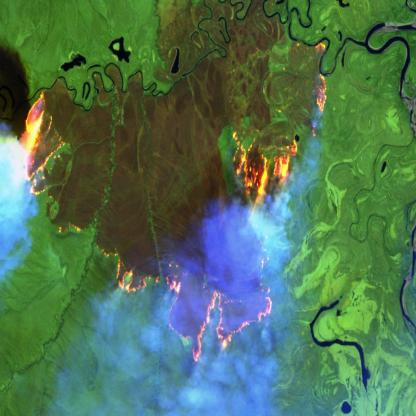fire: (14, 41, 334, 364)
